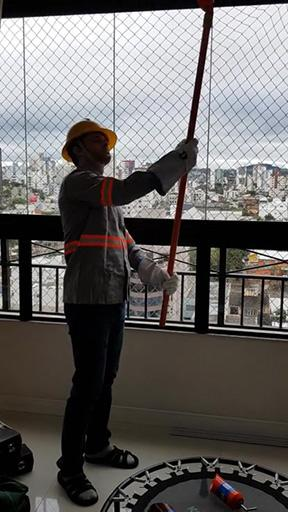Detector_Tensao_Contato: (210, 475, 258, 512)
Vara_Manobra: (158, 12, 214, 327)
